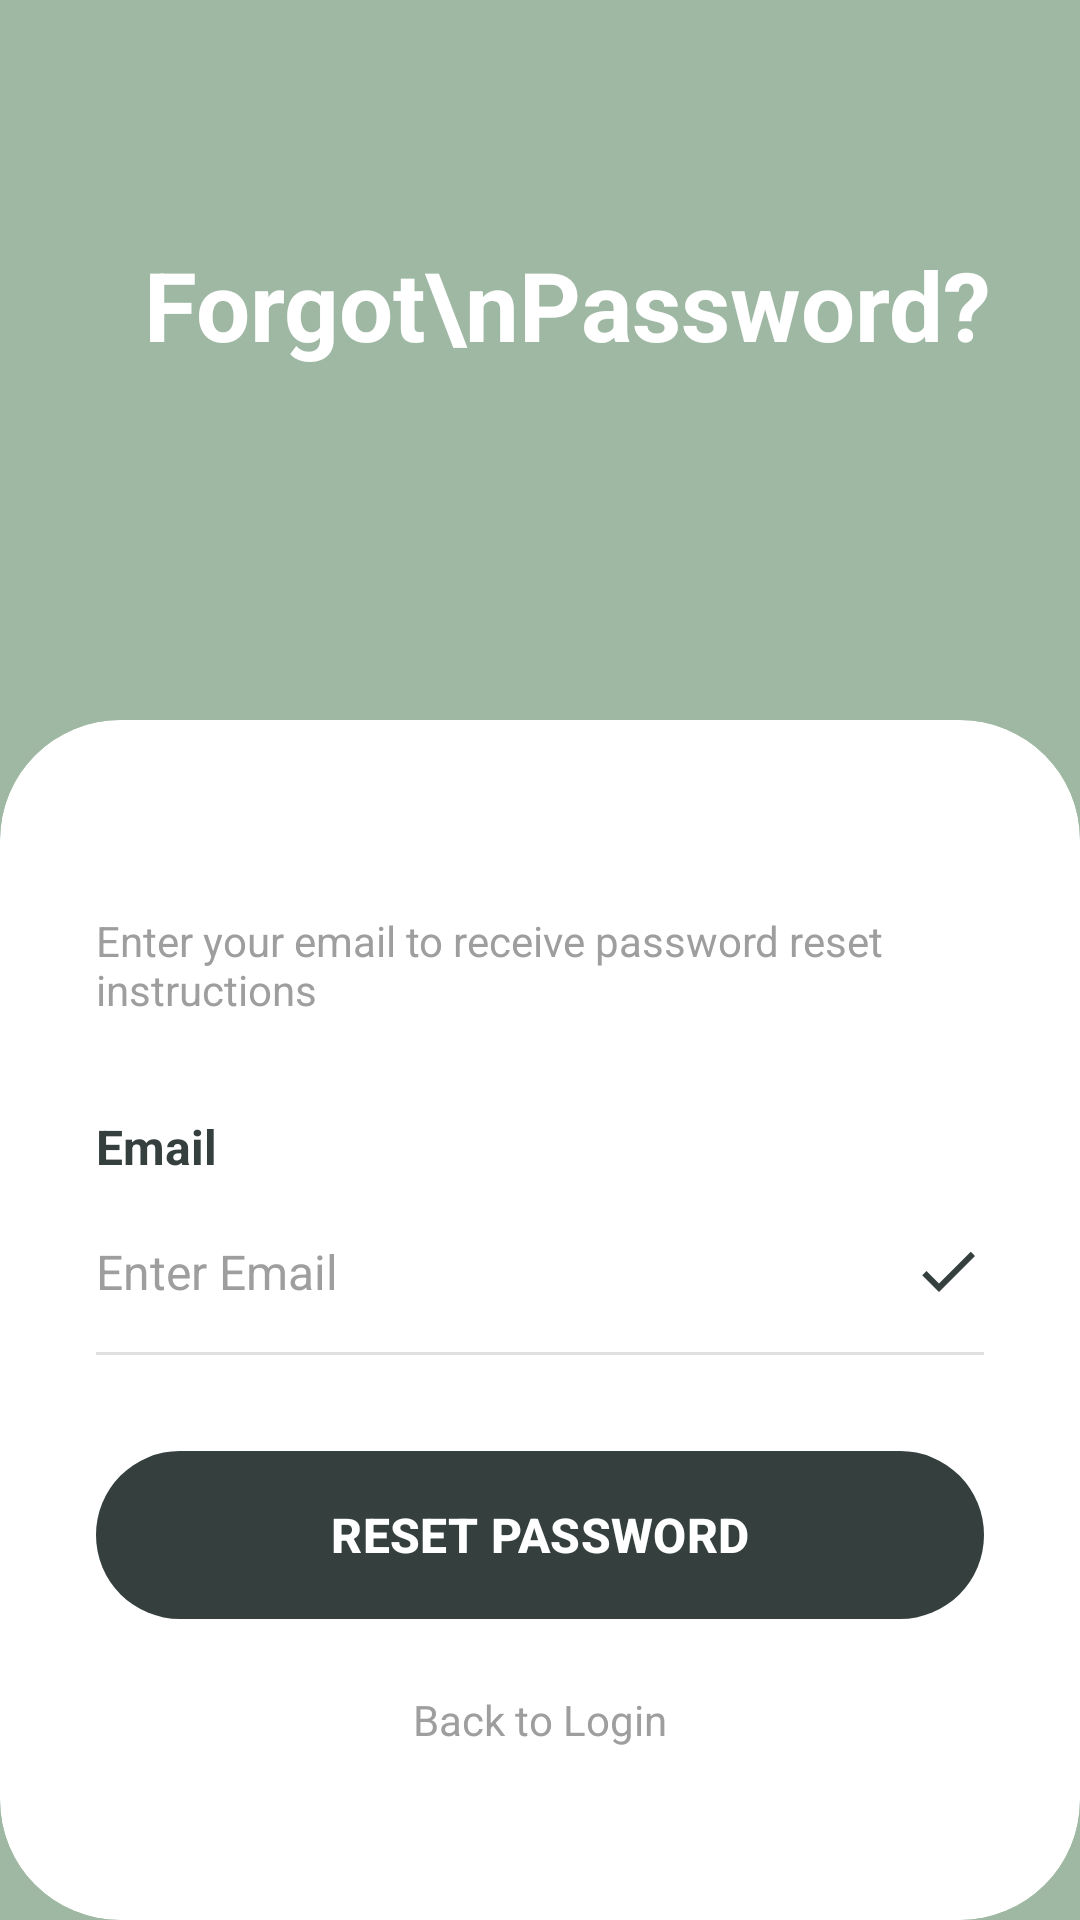

Icon click points for this 1080 x 1920 phone screenshot, format [x,y]:
check: [948,1272]
